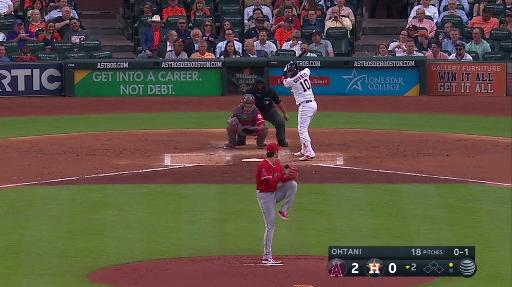pitcher: (256, 142, 299, 262)
